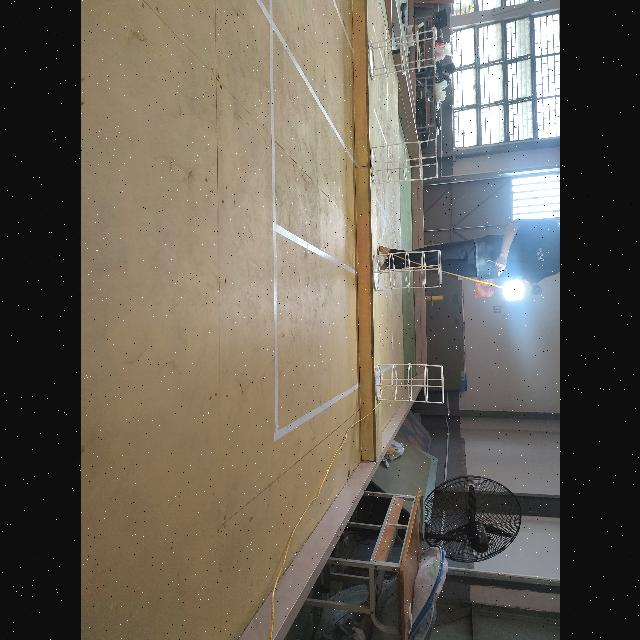S: (361, 136, 442, 184), (372, 358, 446, 406), (364, 34, 438, 80), (368, 250, 444, 290)
